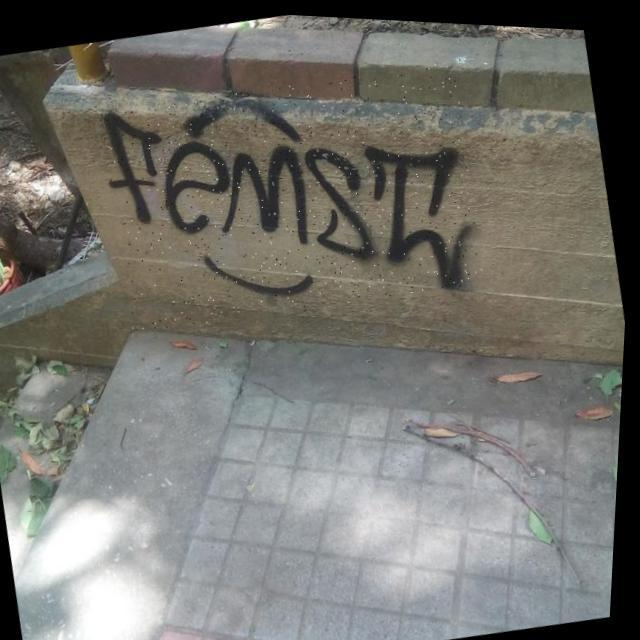-: (92, 42, 498, 348)
